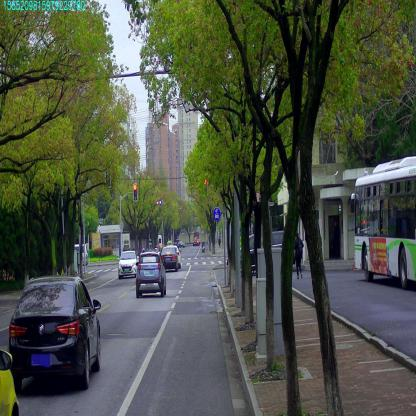traffic-light: (133, 183, 137, 201), (204, 180, 208, 194)
